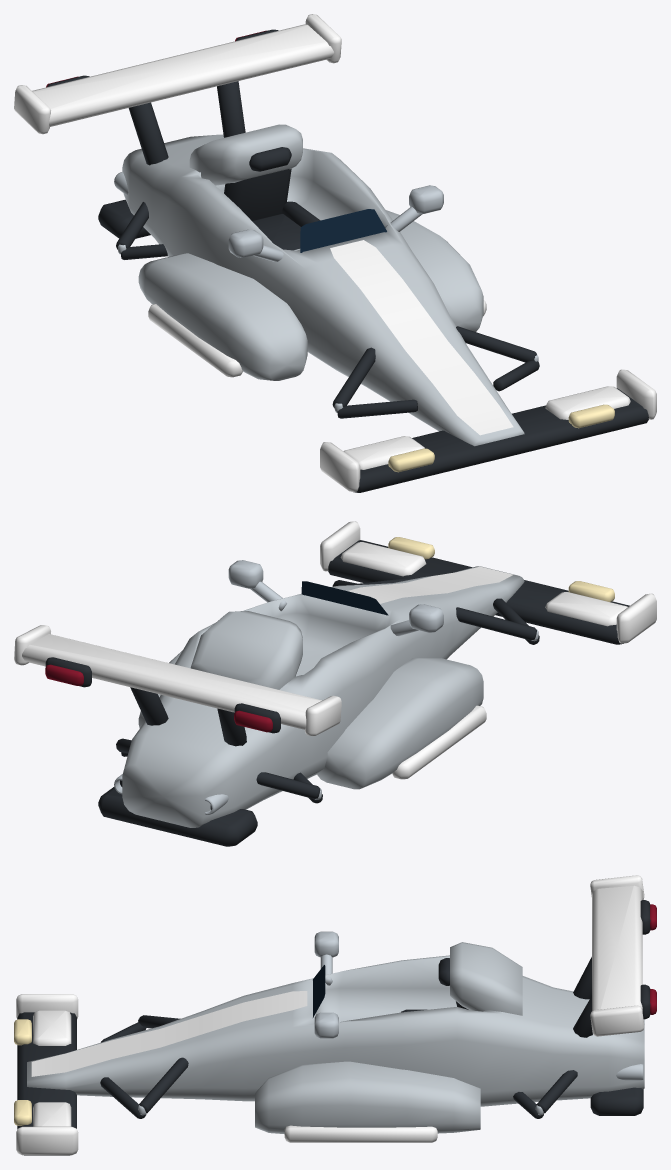
The model's file is auto-formula.glb.
3 renders of one model, top to bottom at view 1: azimuth 30°, elevation 25°; view 2: azimuth 150°, elevation 25°; view 3: azimuth 270°, elevation 25°, orthographic. The views are drawn at different scales.
Parts seen in each view (by area): view 1: auto-formula; view 2: auto-formula; view 3: auto-formula.
Part boxes in pixels (x1,y1,x2,y2): auto-formula: (14,14,656,492); auto-formula: (14,521,656,846); auto-formula: (14,875,656,1155).
Bounding box in the file's own units: 2.01 × 1.01 × 3.95.
